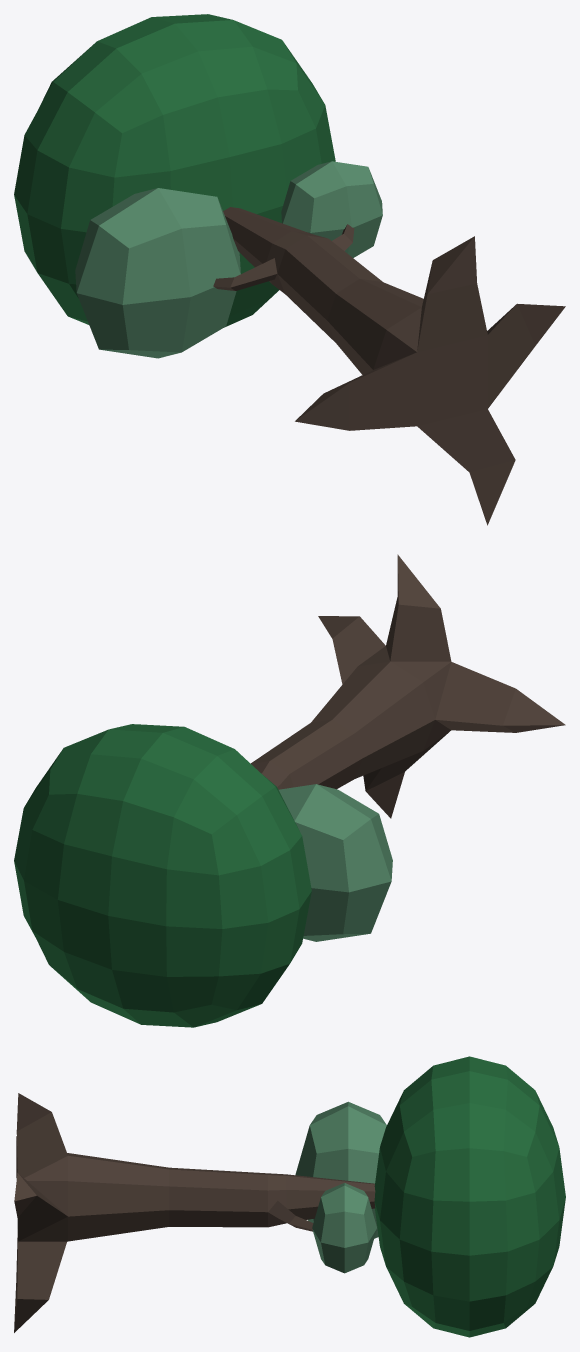
The model's file is tree_2_disturb.fbx.
3 renders of one model, top to bottom at view 1: azimuth 30°, elevation 25°; view 2: azimuth 150°, elevation 25°; view 3: azimuth 270°, elevation 25°, orthographic. The views are drawn at different scales.
Visible parts, largest first — view 1: Cube; view 2: Cube; view 3: Cube.
Part boxes in pixels (x1=…): Cube: x1=14, y1=14, x2=565, y2=525; Cube: x1=14, y1=554, x2=565, y2=1027; Cube: x1=14, y1=1056, x2=565, y2=1337.
Size of the model in its own units: 60343 by 55620 by 110499.
